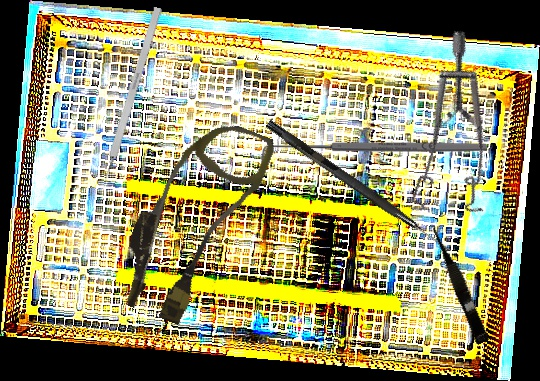Cannula: (107, 104, 278, 335)
Hook Surgical: (263, 119, 456, 255), (97, 6, 163, 193), (261, 140, 487, 161)
Micro Scissor: (426, 219, 493, 346)
Speculum: (352, 26, 534, 239)
